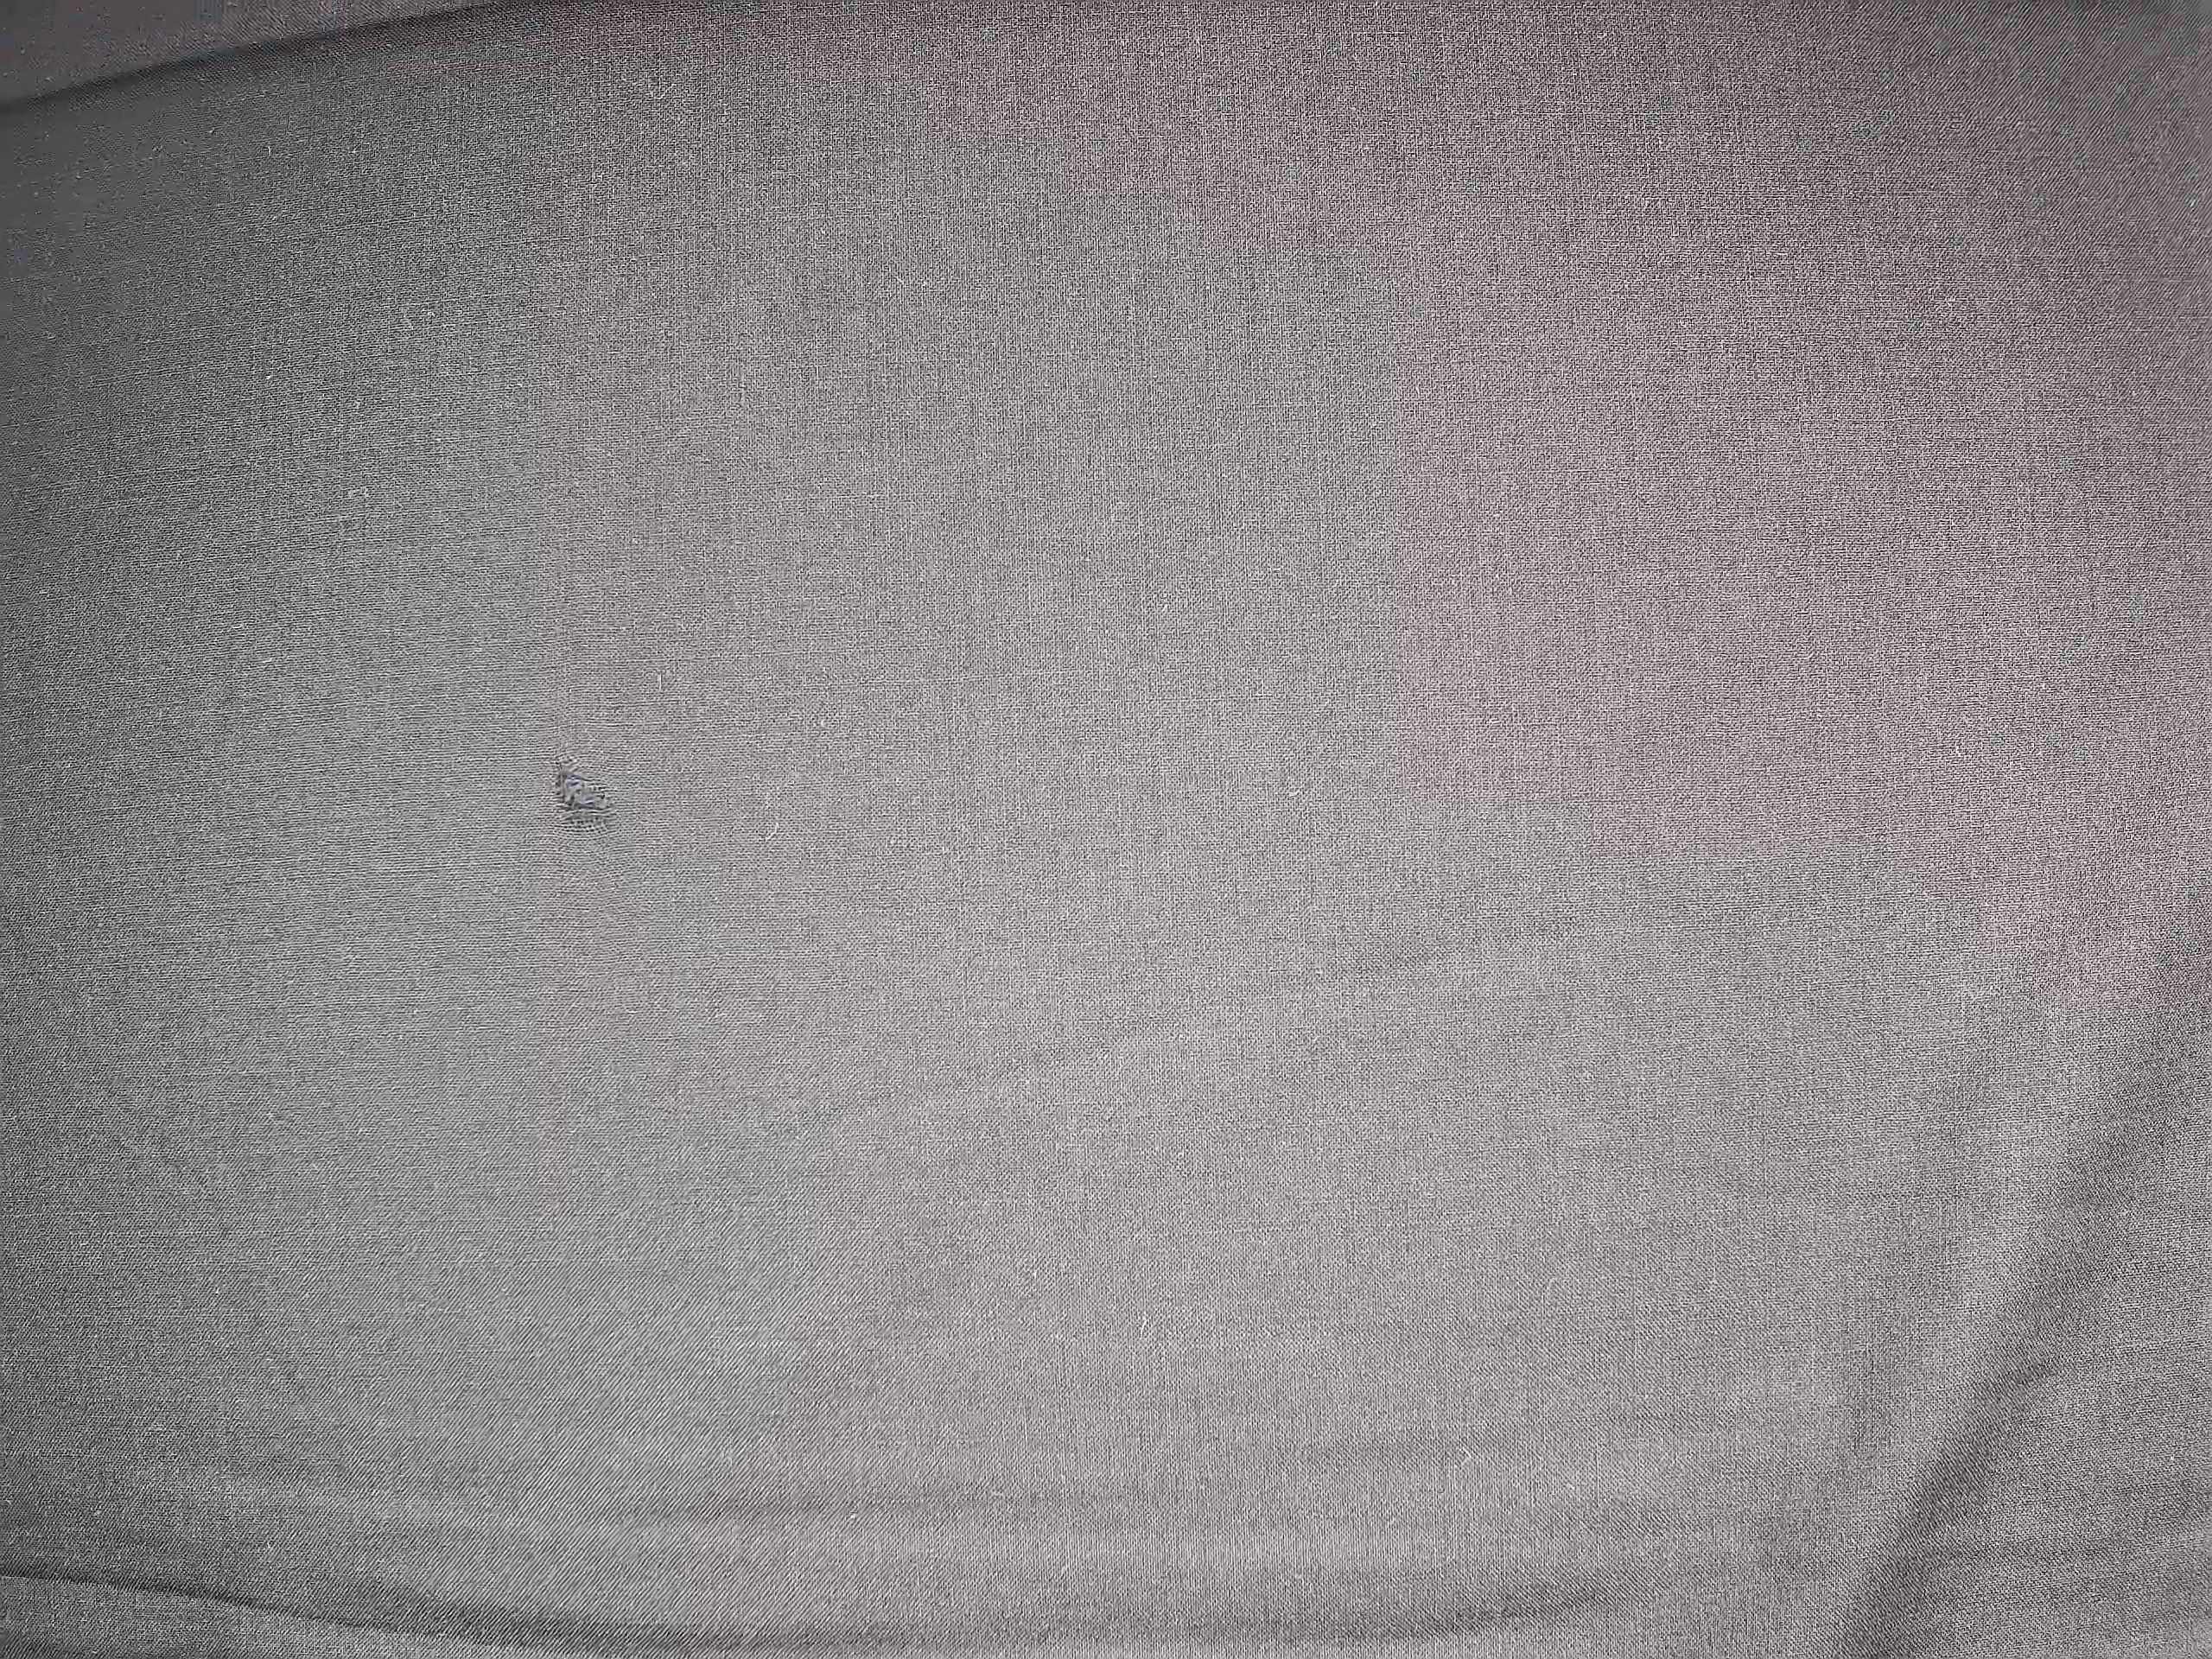rubbing-hole: (542, 755, 622, 850)
